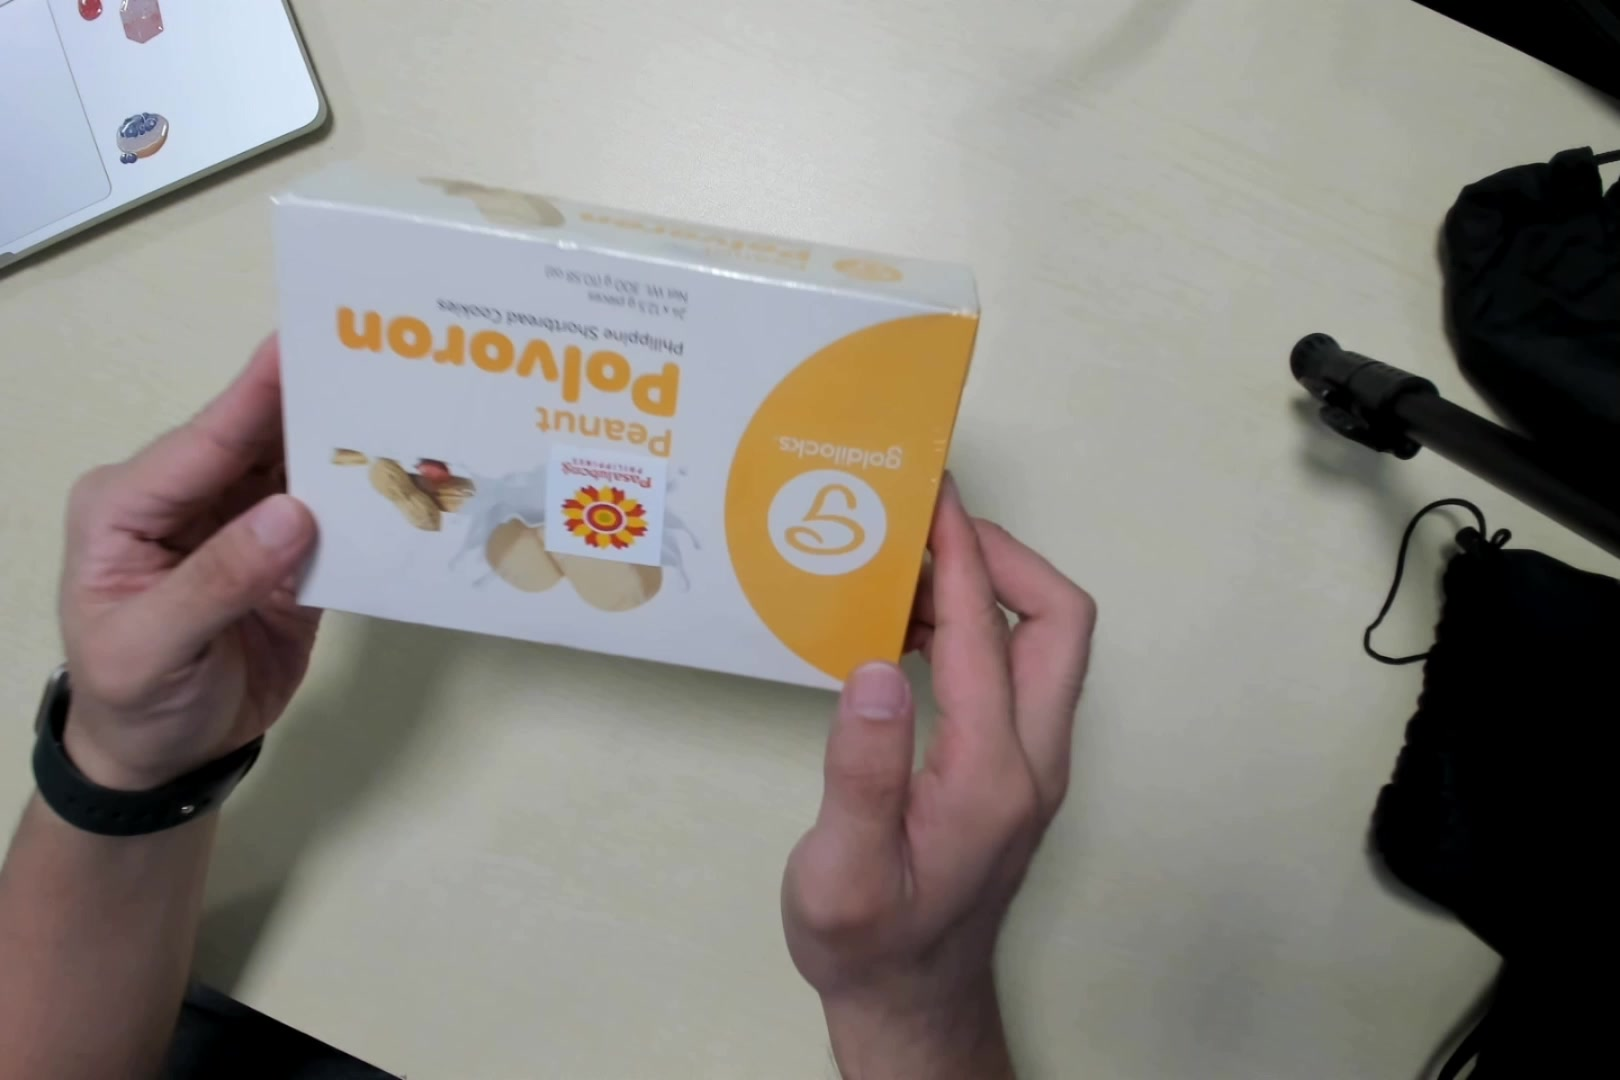SweetsChocolatesOthers_300-399g_Halal_NonHealthy: (277, 147, 988, 700)
